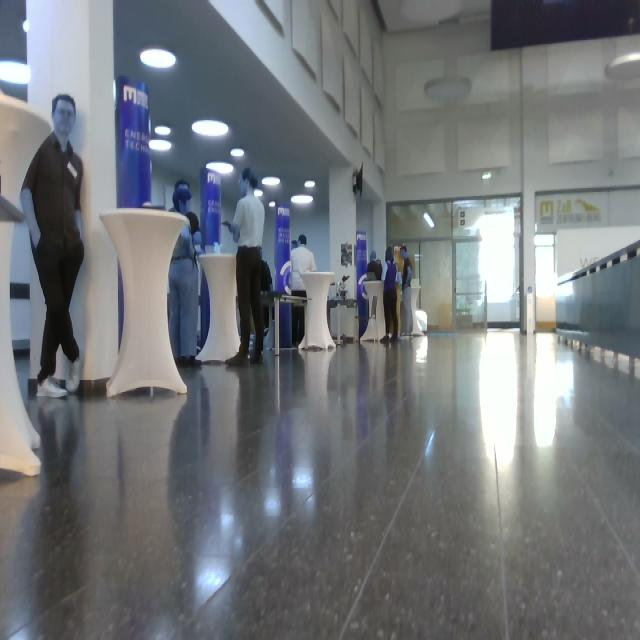door: (419, 239, 452, 329)
light bulb: (423, 74, 471, 102), (604, 51, 639, 81), (139, 47, 176, 68), (0, 59, 30, 84), (191, 119, 228, 136), (205, 162, 233, 174), (148, 138, 171, 150), (290, 193, 313, 204), (422, 210, 434, 227), (154, 124, 171, 135), (261, 176, 280, 185), (229, 147, 244, 156), (22, 17, 29, 32), (303, 178, 315, 186)
person: (19, 94, 84, 398), (221, 167, 265, 365), (167, 178, 202, 366), (289, 234, 316, 346), (379, 246, 399, 342)
table: (97, 204, 193, 401)
tiled floor: (1, 327, 638, 637)
